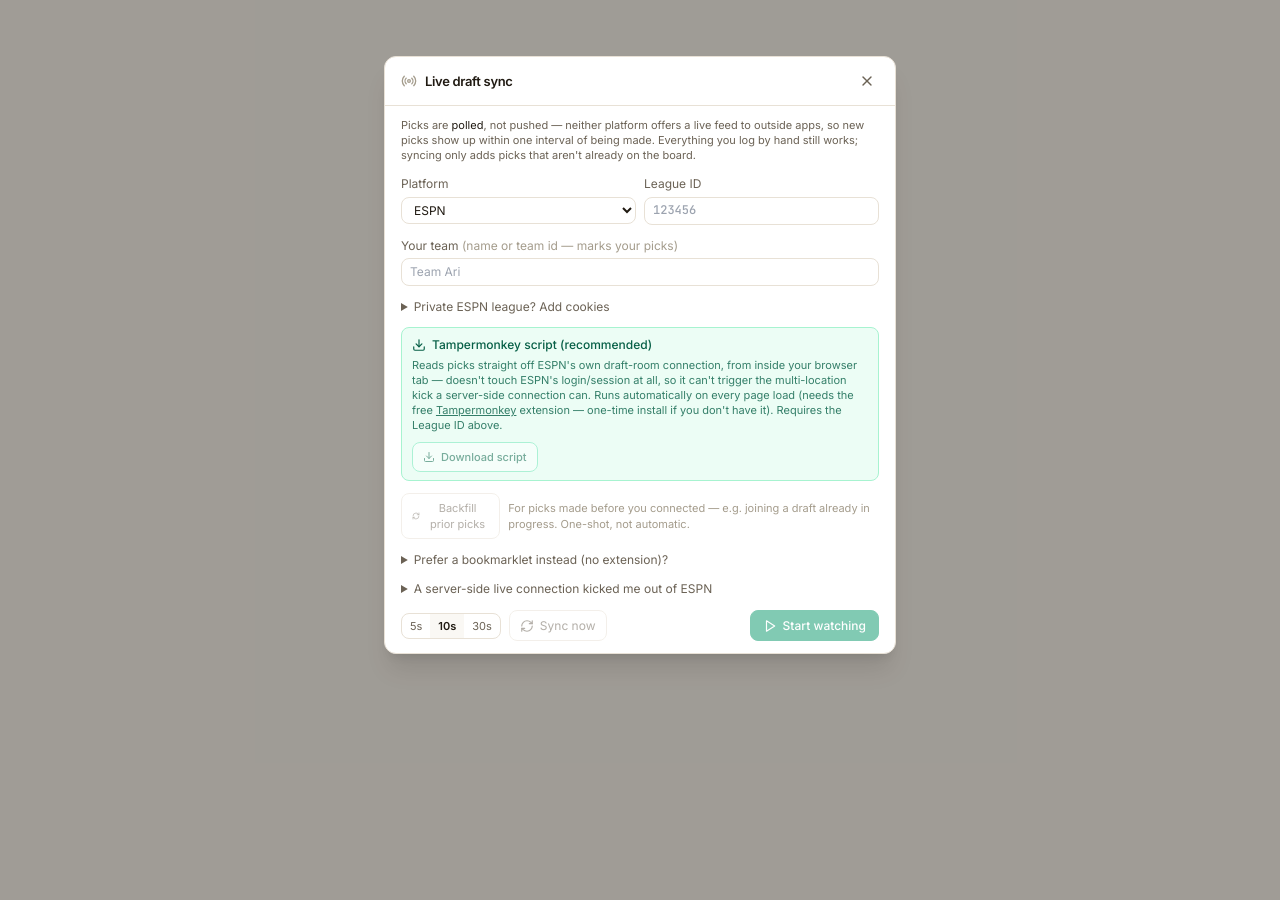
Test: LiveDraftPanel — viewer mode › hides League ID / Your team fields and needs nothing typed to start
Select "Sync from another device" in the dropdown labelled "Platform": (518, 210) [401,197,636,224]
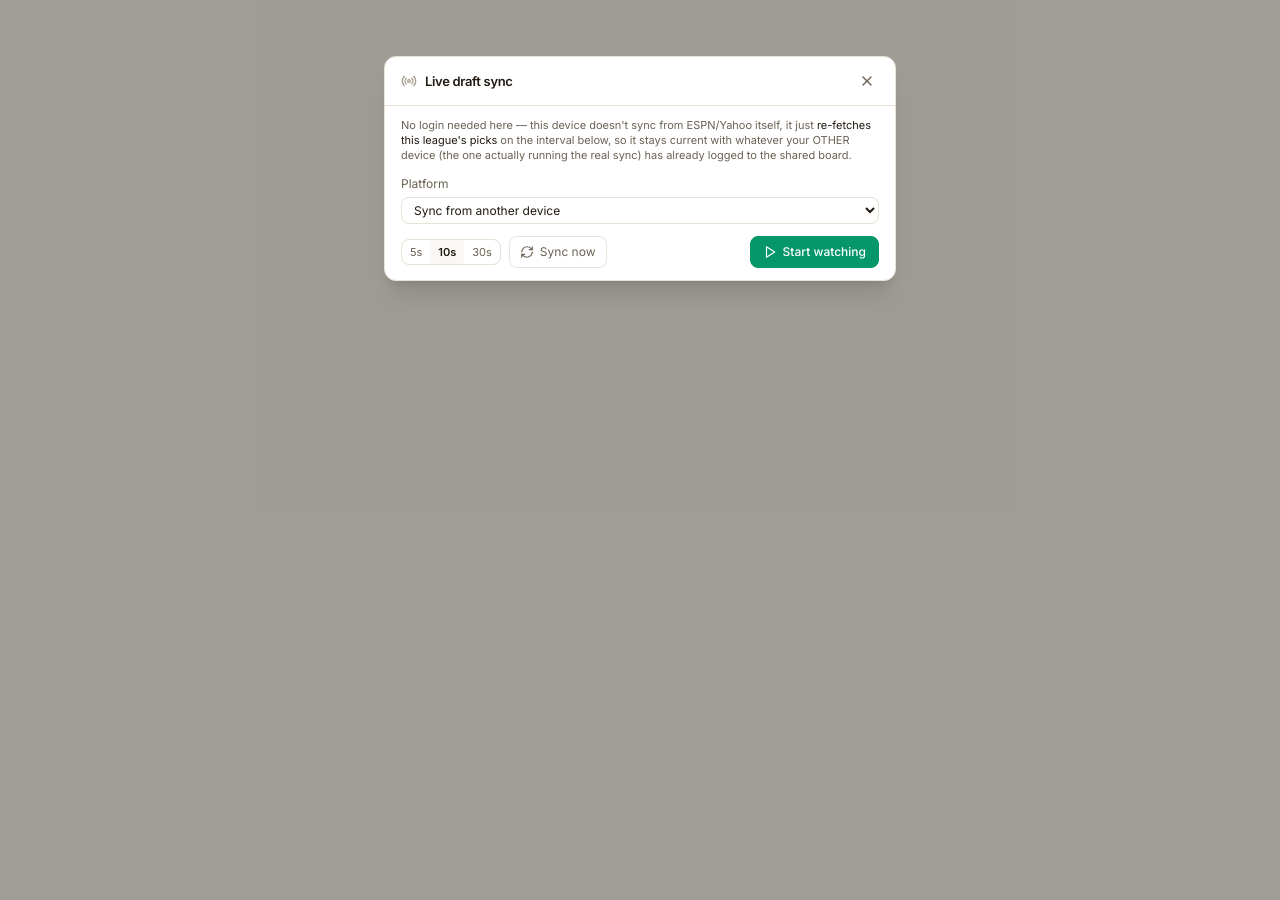
Now the field with placeholder "123456" is gone
Now the text "Your team" is gone
Now the button "Start watching" is enabled, box [750,236,879,268]
